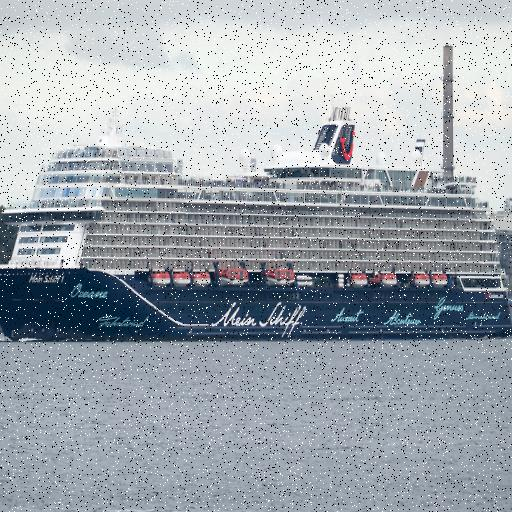cruises: (1, 109, 512, 347)
